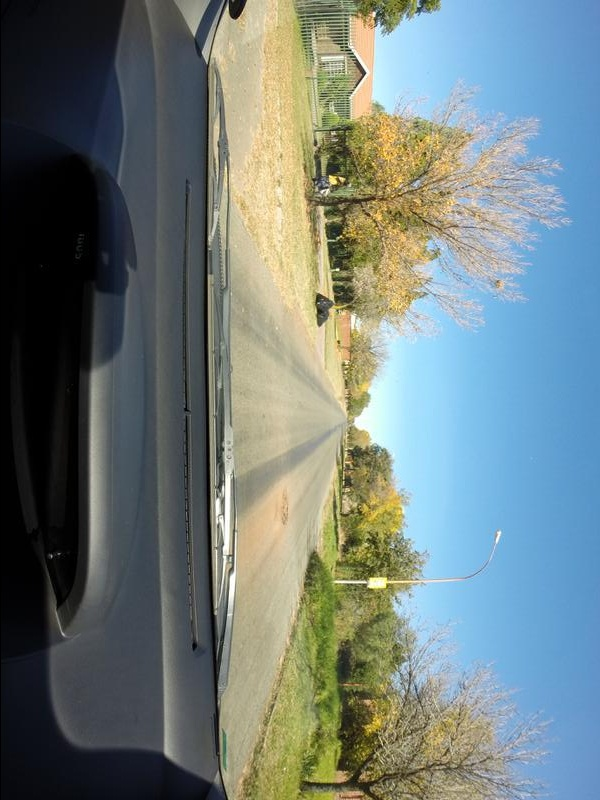pothole: (280, 491, 287, 526)
